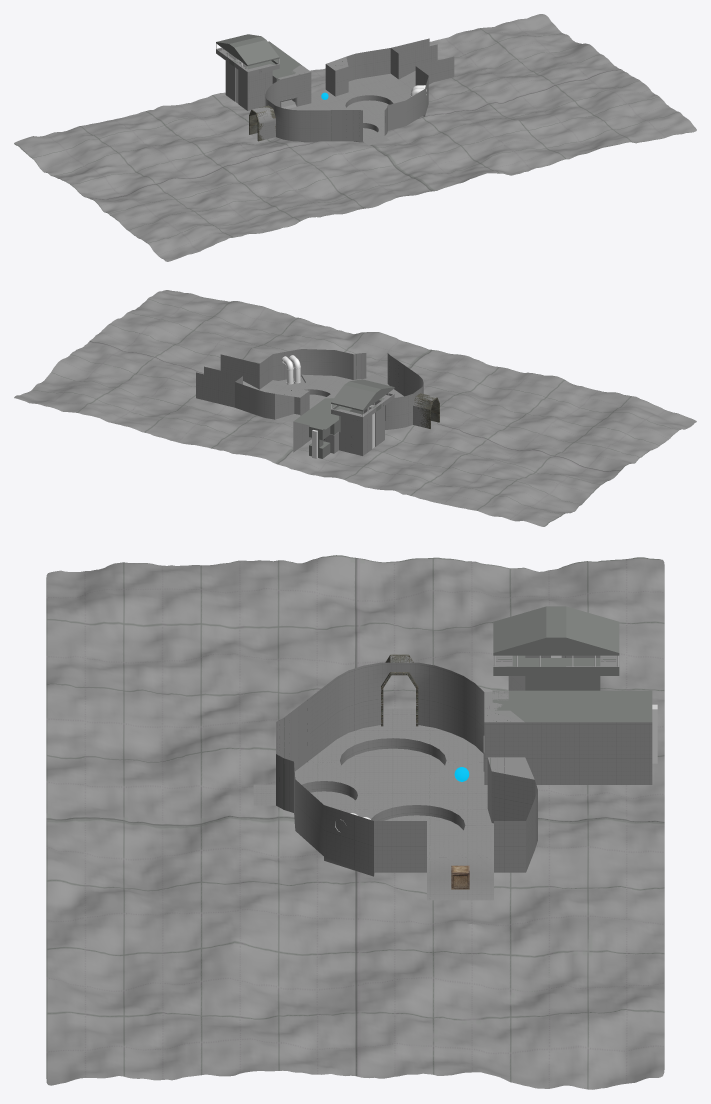
Rendered from Sewer.glb.
3 views of the same model, one above another, from view 1: azimuth 30°, elevation 25°; view 2: azimuth 150°, elevation 25°; view 3: azimuth 270°, elevation 25° (orthographic). The views are drawn at different scales.
Parts seen in each view (by area): view 1: FloorPlane.001, Center, Tower, Arch; view 2: FloorPlane.001, Center, Tower, Arch, pipecluster32d_001a; view 3: FloorPlane.001, Center, Tower.
Boxes of the visible parts, box(x1,y1,x2,y2) form: FloorPlane.001: box(14, 14, 696, 261); Center: box(251, 38, 454, 145); Tower: box(216, 34, 296, 110); Arch: box(249, 105, 275, 141); FloorPlane.001: box(14, 290, 696, 526); Center: box(196, 349, 437, 452); Tower: box(309, 379, 394, 458); Arch: box(414, 393, 439, 428); pipecluster32d_001a: box(281, 355, 300, 384); FloorPlane.001: box(46, 555, 664, 1089); Center: box(253, 655, 652, 900); Tower: box(492, 606, 619, 710).
Size of what is drawn, in the model's own units: 164 by 22.75 by 82.49.
Materials: 6 (4 with a texture image).
